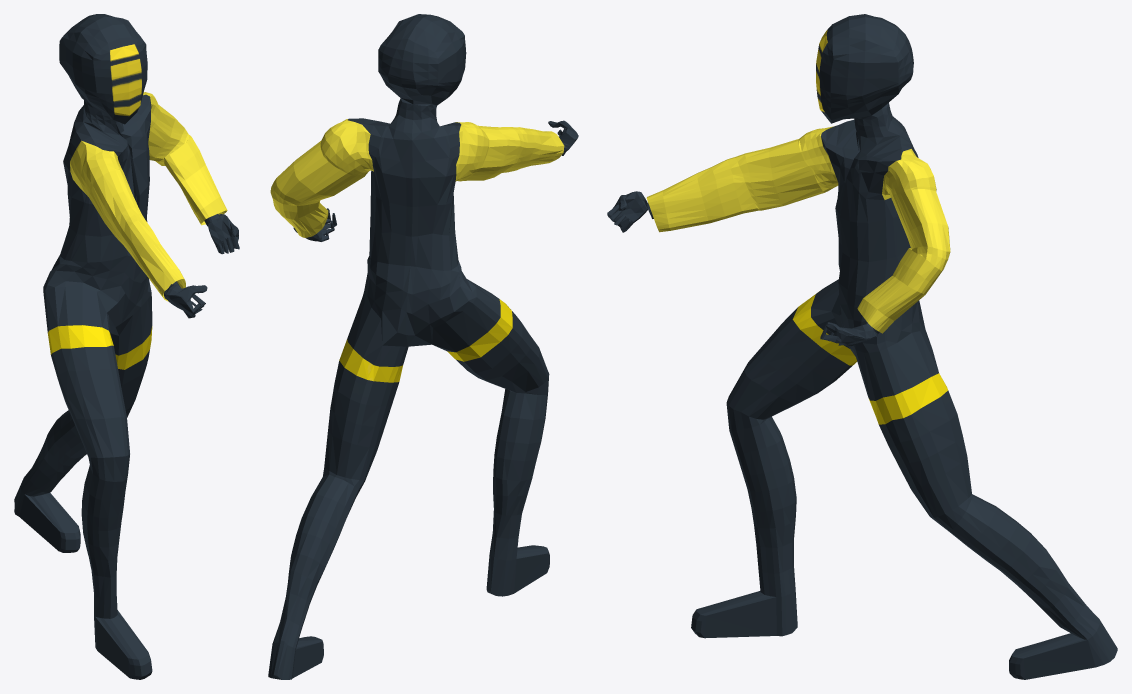
Rendered from Sentry_Attack_000035.obj.
The picture shows the model from 3 angles, left to right: view 1: azimuth 30°, elevation 25°; view 2: azimuth 150°, elevation 25°; view 3: azimuth 270°, elevation 25°; orthographic projection. The views are drawn at different scales.
Parts seen in each view (by area): view 1: Cube; view 2: Cube; view 3: Cube.
Boxes of the visible parts, box(x1,y1,x2,y2) form: Cube: box(14, 14, 239, 679); Cube: box(268, 14, 578, 679); Cube: box(607, 14, 1117, 679).
Bounding box in the file's own units: 1.28 × 3.65 × 2.65.
